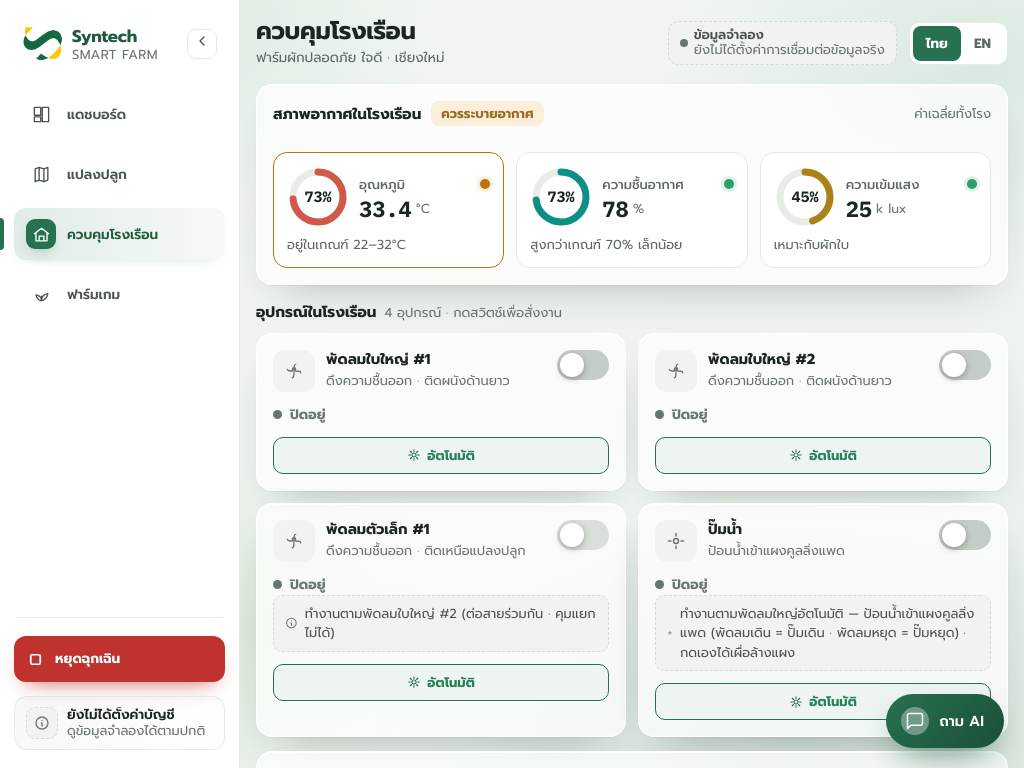
Test: หน้าจอสั่งอุปกรณ์ผ่านห่วงโซ่กลาง (confirm) จริง ไม่เขียน chain เอง › หน้าควบคุมโรงเรือน: เปิดปั๊มขึ้นกล่องยืนยัน "เช็คน้ำก่อน" (ผ่านห่วงโซ่กลาง)
Click the switch named "ปั๊มน้ำ — ปิดอยู่" at (965, 535), box x1=939 y1=520 x2=991 y2=550
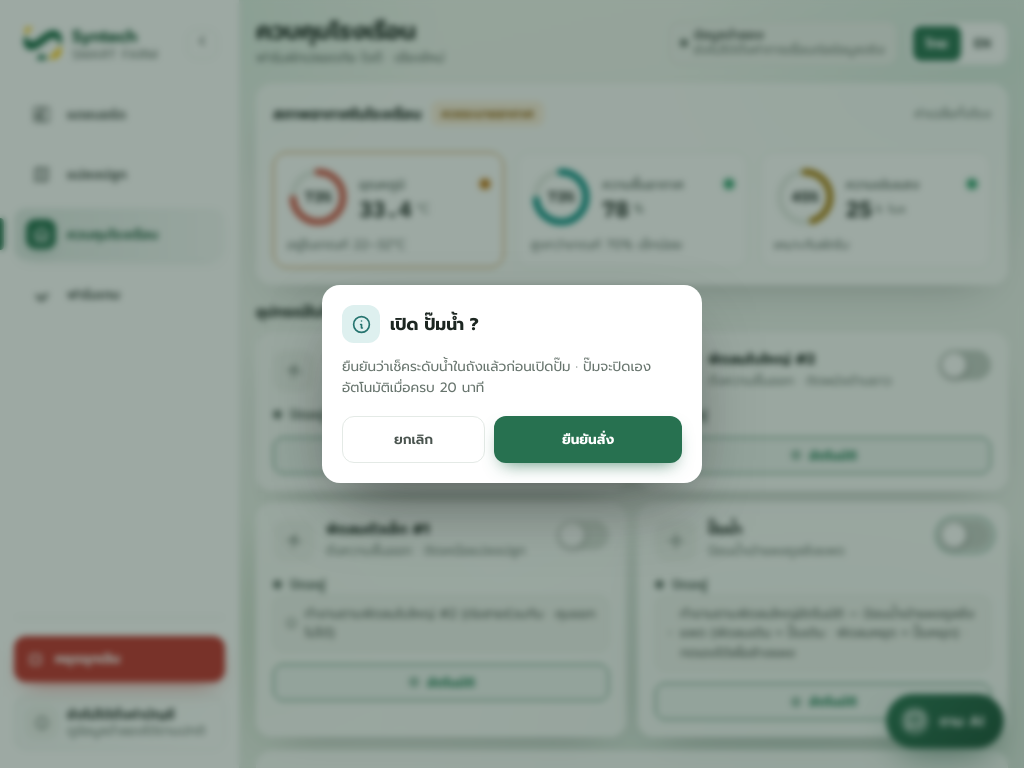
Result: the text "ยืนยันว่าเช็คระดับน้ำในถังแล้วก่อนเปิดปั๊ม · ปั๊มจะปิดเองอัตโนมัติเมื่อครบ 20 นาที" is shown at x1=342 y1=356 x2=651 y2=398
